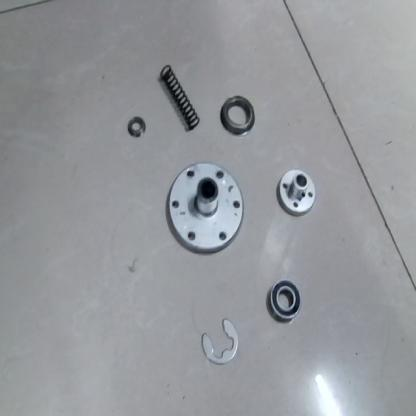FOD: (166, 156, 245, 257), (160, 60, 203, 135), (200, 316, 244, 369), (277, 163, 318, 218), (219, 87, 259, 137), (270, 274, 303, 326), (127, 114, 146, 140)
